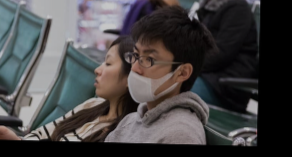with_mask: (125, 43, 173, 103)
without_mask: (92, 51, 124, 97)
